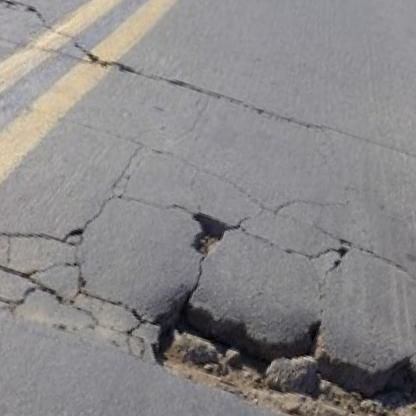pothole: (135, 282, 416, 416), (181, 207, 240, 267)
